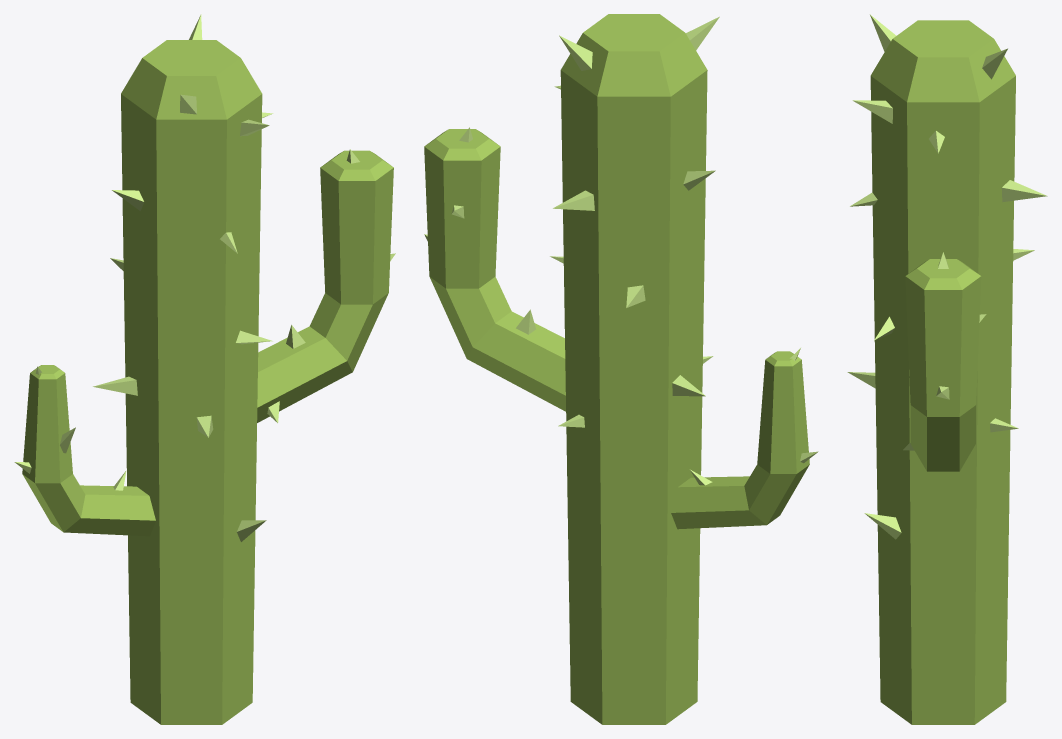
Rendered from Cactus_B.fbx.
The picture shows the model from 3 angles, left to right: view 1: azimuth 30°, elevation 25°; view 2: azimuth 150°, elevation 25°; view 3: azimuth 270°, elevation 25°; orthographic projection. The views are drawn at different scales.
Visible parts, largest first — view 1: Cactus_B; view 2: Cactus_B; view 3: Cactus_B.
Boxes of the visible parts, x1,y1,x2,y2 form: Cactus_B: (14, 14, 395, 724); Cactus_B: (424, 14, 818, 724); Cactus_B: (847, 14, 1047, 724).
Bounding box in the file's own units: 51.88 × 85.27 × 23.02.
